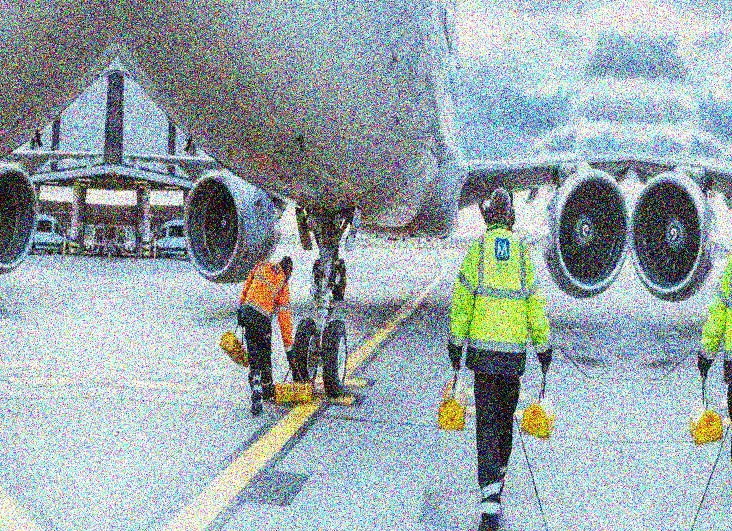chock: (519, 390, 560, 443), (686, 397, 727, 449), (436, 370, 468, 436), (218, 329, 253, 371), (273, 380, 312, 408)
wheel: (321, 317, 349, 399), (292, 316, 321, 390), (332, 258, 348, 300), (312, 257, 322, 281)
